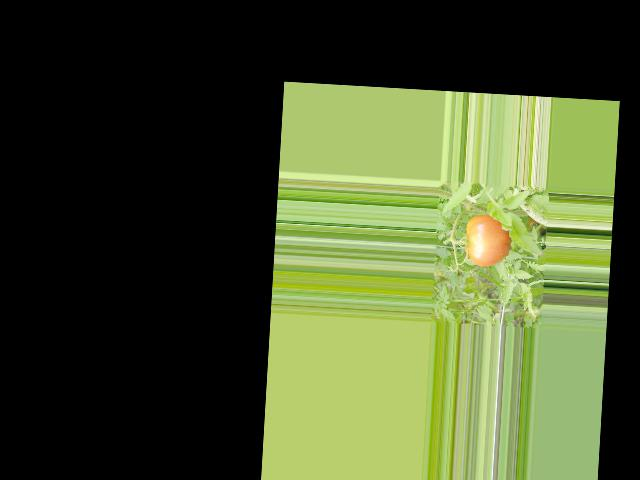tomato: (463, 214, 511, 267)
